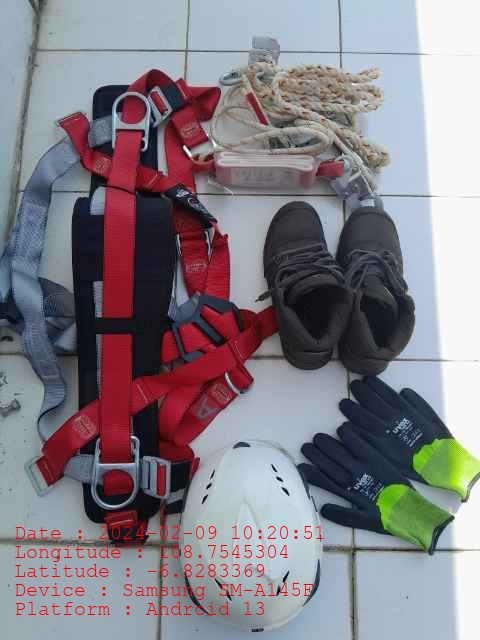SEPATU: (262, 200, 412, 377)
TAMBANG_SLING: (210, 37, 397, 207)
